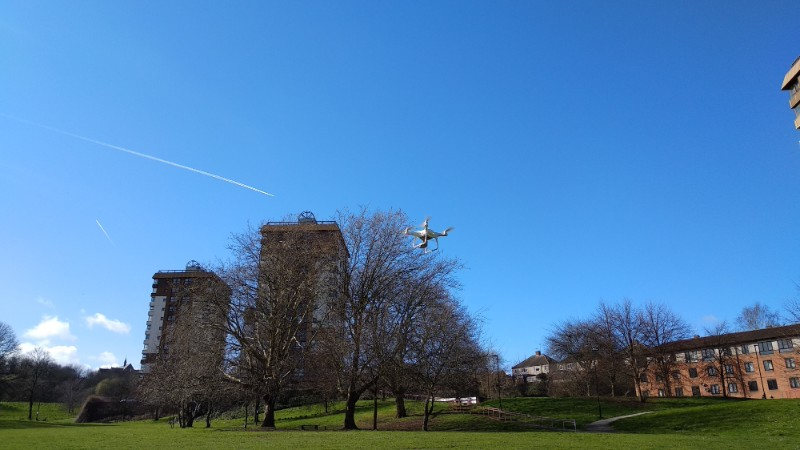drone: (398, 216, 455, 255)
